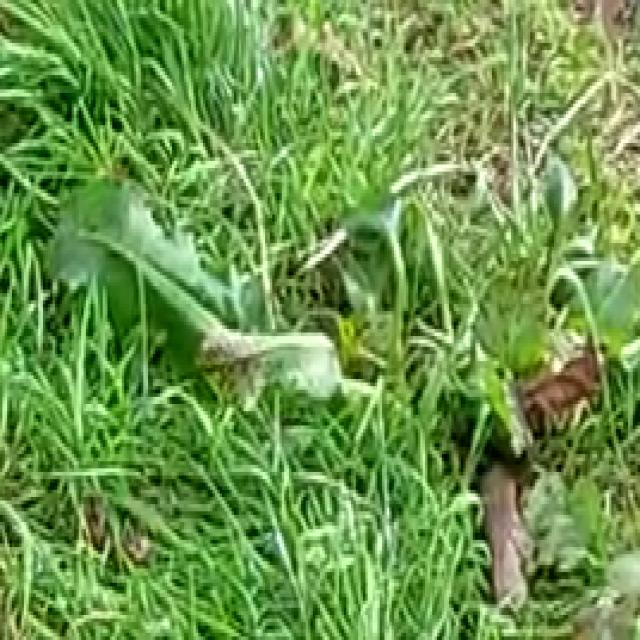organic waste: (62, 161, 425, 468)
